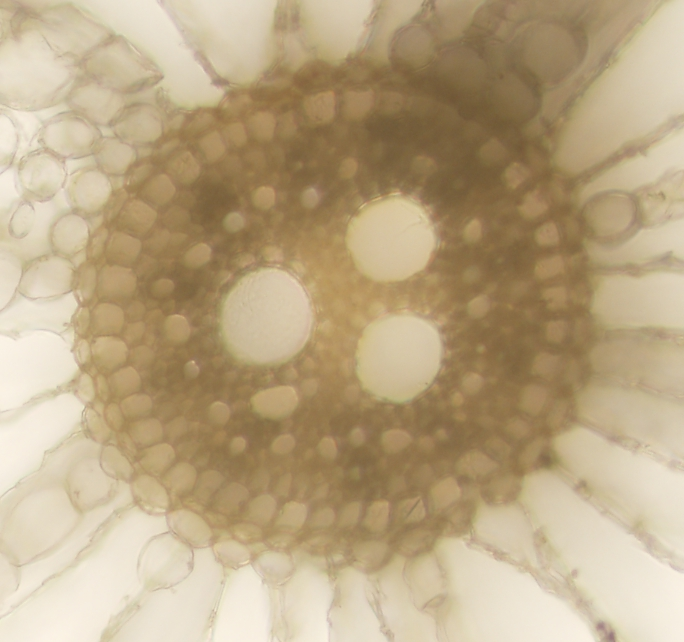lm: (218, 263, 313, 368), (346, 191, 437, 284), (354, 311, 443, 404)
